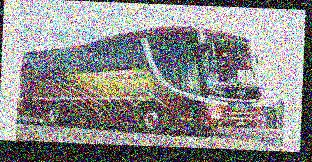bus: (18, 17, 266, 138)
